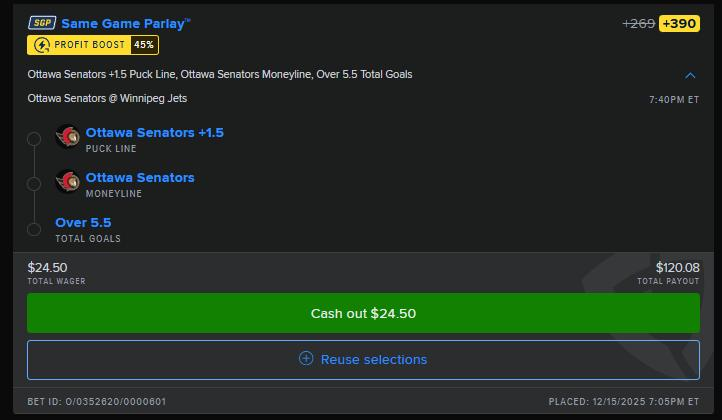game: (27, 91, 189, 106)
odds: (662, 17, 697, 31)
payout: (655, 259, 702, 276)
wager: (26, 258, 69, 276)
